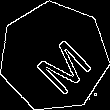M_NW: (20, 22, 88, 91)
